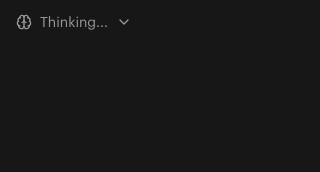
Scenario: v2 Reasoning › renders non-empty reasoning collapsed by default
Check: the text "internal chain" is not shown
Click the button.
click(74, 22)  # box [16,12,132,32]
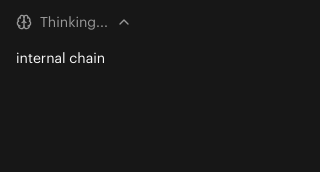
Check: the text "internal chain" is shown, box [16,49,105,67]
